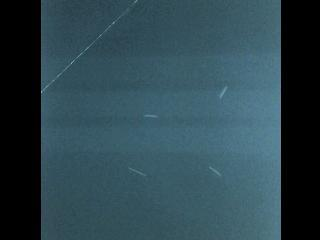crack: (41, 0, 138, 94)
scratch: (121, 161, 152, 182), (136, 107, 167, 125), (214, 80, 231, 105), (206, 162, 224, 181)
